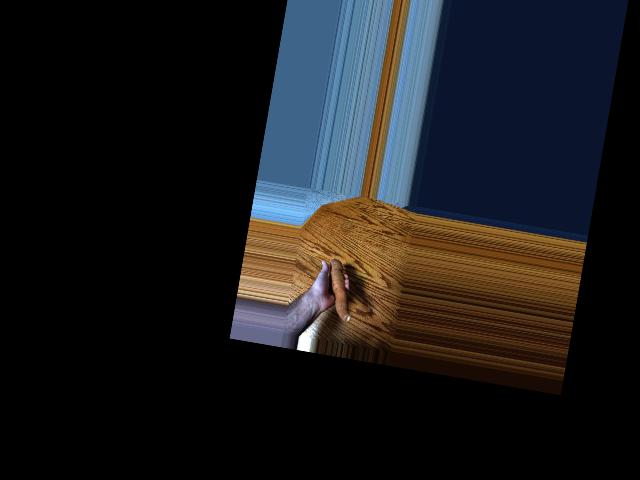sweet_potato: (320, 257, 359, 323)
